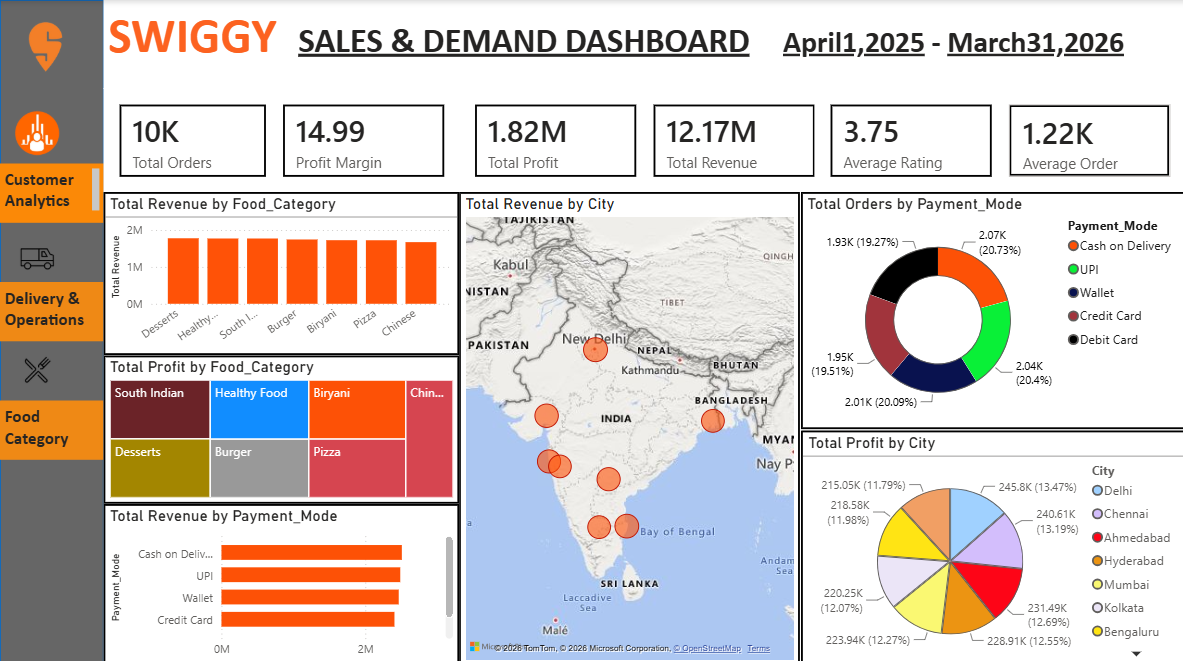

The page's visual inventory and layout, read from the dashboard file:
{"tool":"powerbi","page":{"name":"Page 1","canvas":[1280,720],"ordinal":0},"visuals":[{"type":"shape","box":[0,0,112,720],"z":0},{"type":"image","box":[0,0,96,96],"z":1000},{"type":"image","box":[16,224,48,112],"z":2000},{"type":"image","box":[16,384,48,32],"z":3000},{"type":"image","box":[16,112,48,64],"z":5000},{"type":"textbox","box":[0,176,112,64],"z":6000},{"type":"textbox","box":[0,304,112,64],"z":7000},{"type":"textbox","box":[0,432,112,64],"z":8000},{"type":"textbox","box":[112,0,1168,96],"z":10000},{"type":"cardVisual","fields":{"Data":["Swiggy_Sales_Data.Total Orders"]},"box":[112,96,192,112],"z":11000},{"type":"cardVisual","fields":{"Data":["Swiggy_Sales_Data.Profit Margin"]},"box":[288,96,208,112],"z":12000},{"type":"cardVisual","fields":{"Data":["Swiggy_Sales_Data.Total Profit"]},"box":[496,96,208,112],"z":13000},{"type":"cardVisual","fields":{"Data":["Swiggy_Sales_Data.Total Revenue"]},"box":[688,96,208,112],"z":14000},{"type":"cardVisual","fields":{"Data":["Swiggy_Sales_Data.Average Rating"]},"box":[880,96,208,112],"z":15000},{"type":"cardVisual","fields":{"Data":["Swiggy_Sales_Data.Average Order"]},"box":[1072,96,208,112],"z":16000},{"type":"map","fields":{"Category":["Swiggy_Sales_Data.City"],"Size":["Swiggy_Sales_Data.Total Revenue"]},"box":[496,208,368,512],"z":17000},{"type":"clusteredColumnChart","fields":{"Category":["Swiggy_Sales_Data.Food_Category"],"Y":["Swiggy_Sales_Data.Total Revenue"]},"box":[112,208,384,176],"z":18000},{"type":"donutChart","fields":{"Category":["Swiggy_Sales_Data.Payment_Mode"],"Y":["Swiggy_Sales_Data.Total Orders"]},"box":[864,208,416,256],"z":19000},{"type":"clusteredBarChart","fields":{"Y":["Swiggy_Sales_Data.Total Revenue"],"Category":["Swiggy_Sales_Data.Payment_Mode"]},"box":[112,544,384,176],"z":20000},{"type":"treemap","fields":{"Group":["Swiggy_Sales_Data.Food_Category"],"Values":["Swiggy_Sales_Data.Total Profit"]},"box":[112,384,384,160],"z":21000},{"type":"pieChart","fields":{"Y":["Swiggy_Sales_Data.Total Profit"],"Category":["Swiggy_Sales_Data.City"]},"box":[864,464,416,256],"z":22000}]}

Visuals, with their boxes in screenshot pixels (x1, y1, x2, y2), scaled from the page's 1280x720 canvas onto the 1183x661 screenshot:
shape: (0,0,104,660)
image: (0,0,89,88)
image: (15,206,59,308)
image: (15,353,59,382)
image: (15,103,59,162)
textbox: (0,162,104,220)
textbox: (0,279,104,338)
textbox: (0,397,104,455)
textbox: (104,0,1182,88)
cardVisual - Swiggy_Sales_Data.Total Orders: (104,88,281,191)
cardVisual - Swiggy_Sales_Data.Profit Margin: (266,88,458,191)
cardVisual - Swiggy_Sales_Data.Total Profit: (458,88,651,191)
cardVisual - Swiggy_Sales_Data.Total Revenue: (636,88,828,191)
cardVisual - Swiggy_Sales_Data.Average Rating: (813,88,1006,191)
cardVisual - Swiggy_Sales_Data.Average Order: (991,88,1182,191)
map - Swiggy_Sales_Data.City x Swiggy_Sales_Data.Total Revenue: (458,191,799,660)
clusteredColumnChart - Swiggy_Sales_Data.Food_Category x Swiggy_Sales_Data.Total Revenue: (104,191,458,353)
donutChart - Swiggy_Sales_Data.Payment_Mode x Swiggy_Sales_Data.Total Orders: (799,191,1182,426)
clusteredBarChart - Swiggy_Sales_Data.Total Revenue x Swiggy_Sales_Data.Payment_Mode: (104,499,458,660)
treemap - Swiggy_Sales_Data.Food_Category x Swiggy_Sales_Data.Total Profit: (104,353,458,499)
pieChart - Swiggy_Sales_Data.Total Profit x Swiggy_Sales_Data.City: (799,426,1182,660)
